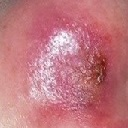Carbuncle: (33, 23, 107, 102)
